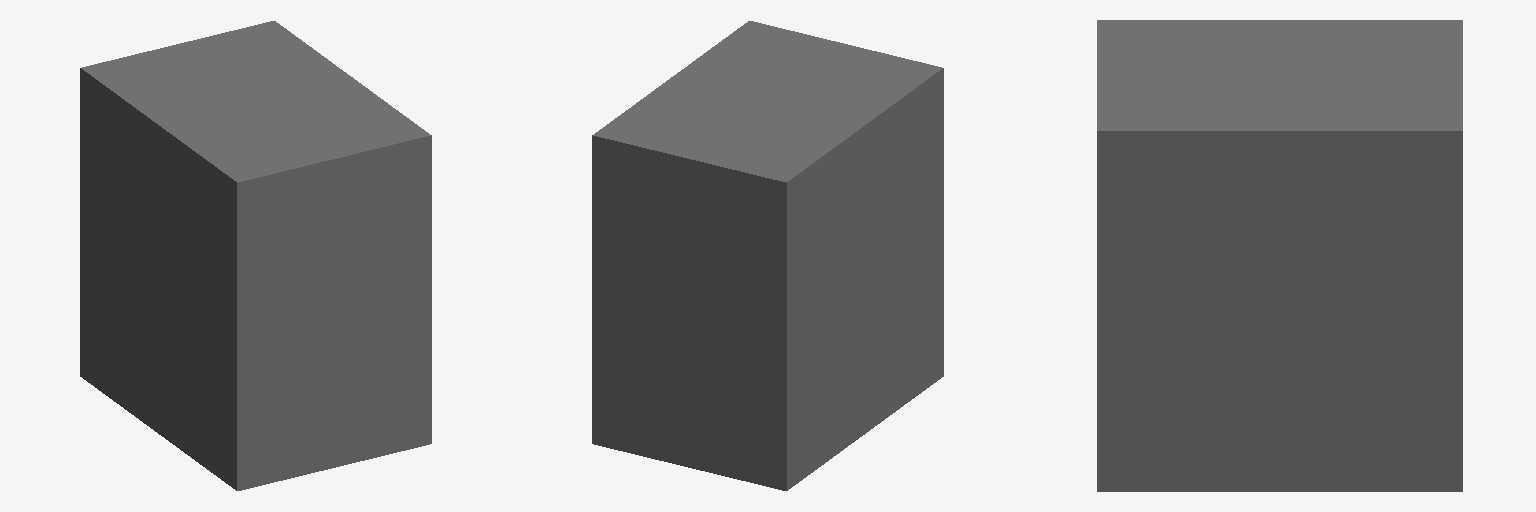
robot.urdf — table:
<?xml version="1.0"?>

<robot name="table">
	<link name="base">
		<inertial>
			<origin xyz="0 0 0" rpy="0 0 0"/>
			<mass value="2"/>
			<inertia ixx="0.000683333"  ixy="0"  ixz="0" iyy="0.000683333" iyz="0" izz="0.000683333" />
       	</inertial>
		<visual>
			<origin xyz="0 0 -0.38" rpy="0 0 0" />
			<geometry>
				<box size="0.5 0.7 0.76" />
			</geometry>
			<material name="gray">
				<color rgba="0.5 0.5 0.5 1" />
			</material>
		</visual>
		<collision>
            <origin xyz="0 0 -0.38" rpy="0 0 0" />
            <geometry>
				<box size="0.5 0.7 0.76" />
            </geometry>
			<material name="gray">
				<color rgba="0.5 0.5 0.5 1" />
			</material>
        </collision>
	</link>
</robot>

--- Render facts (derived) ---
3 views of the same robot in one strip: view 1: azimuth 30°, elevation 25°; view 2: azimuth 150°, elevation 25°; view 3: azimuth 270°, elevation 25° (orthographic).
Model table with 1 links and 0 joints (none), rooted at base, posed all joints at 0.
Links seen in each view (by area): view 1: base; view 2: base; view 3: base.
Link boxes in pixels (left/top/right/bottom): base: left=80, top=21, right=431, bottom=490; base: left=592, top=21, right=943, bottom=490; base: left=1097, top=20, right=1462, bottom=491.
Size in the robot's own frame: 0.5 by 0.7 by 0.76 metres.
Geometry: primitives only (box / cylinder / sphere), no mesh files.
